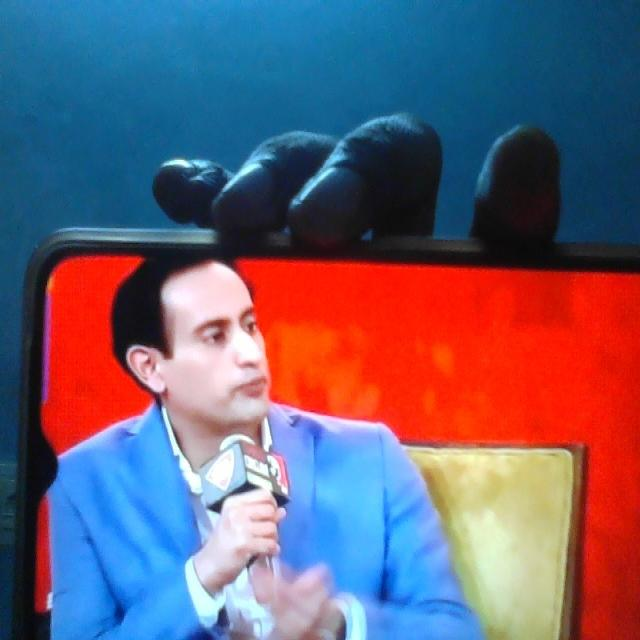fake: (155, 239, 258, 433)
